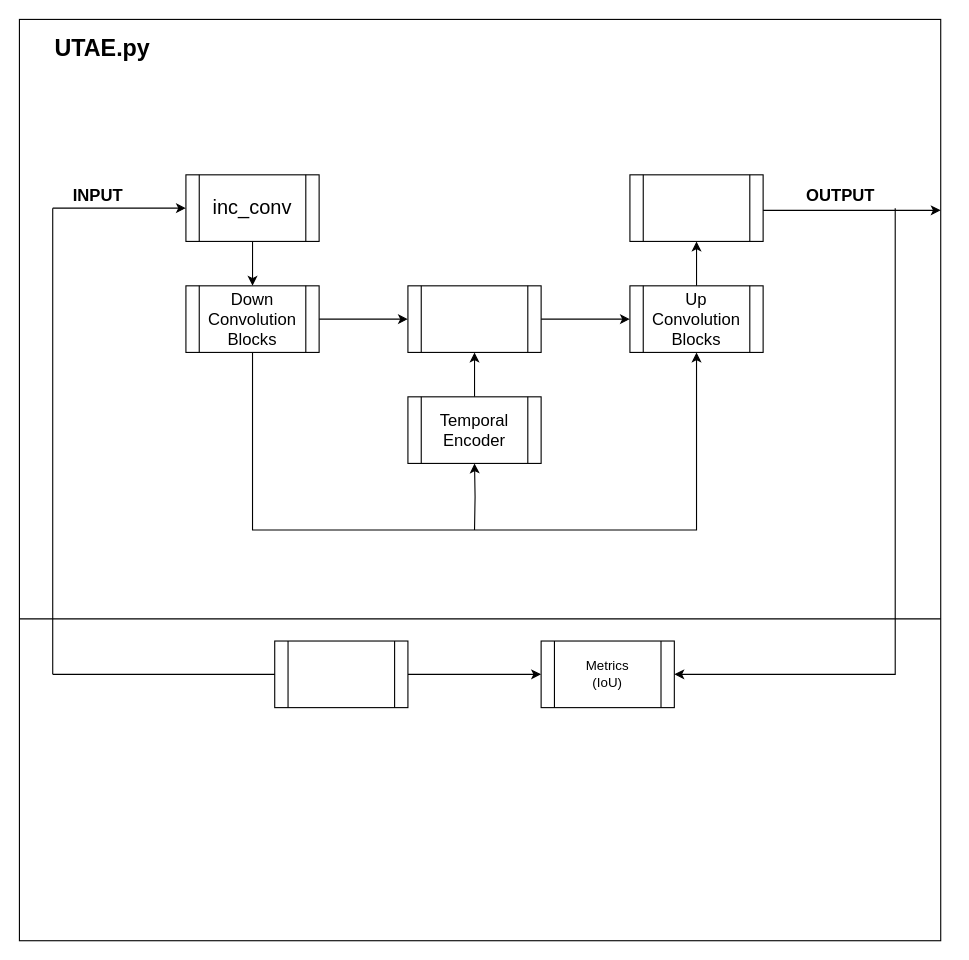
The diagram is 969 pixels wide and 960 high, and some of its shapes have lost their labels. Each missing label, with the centre of its shape:
Dataloaders: (x=341, y=674)
out_conv: (x=696, y=207)
Temporal Aggregator: (x=474, y=318)
